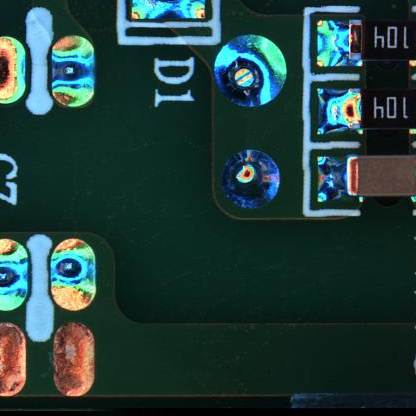spot: (213, 31, 292, 111), (213, 144, 281, 215), (44, 229, 99, 316), (46, 33, 101, 114)
